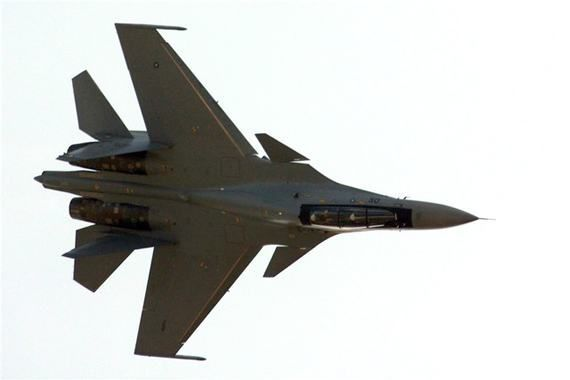airplane: (21, 14, 491, 361)
